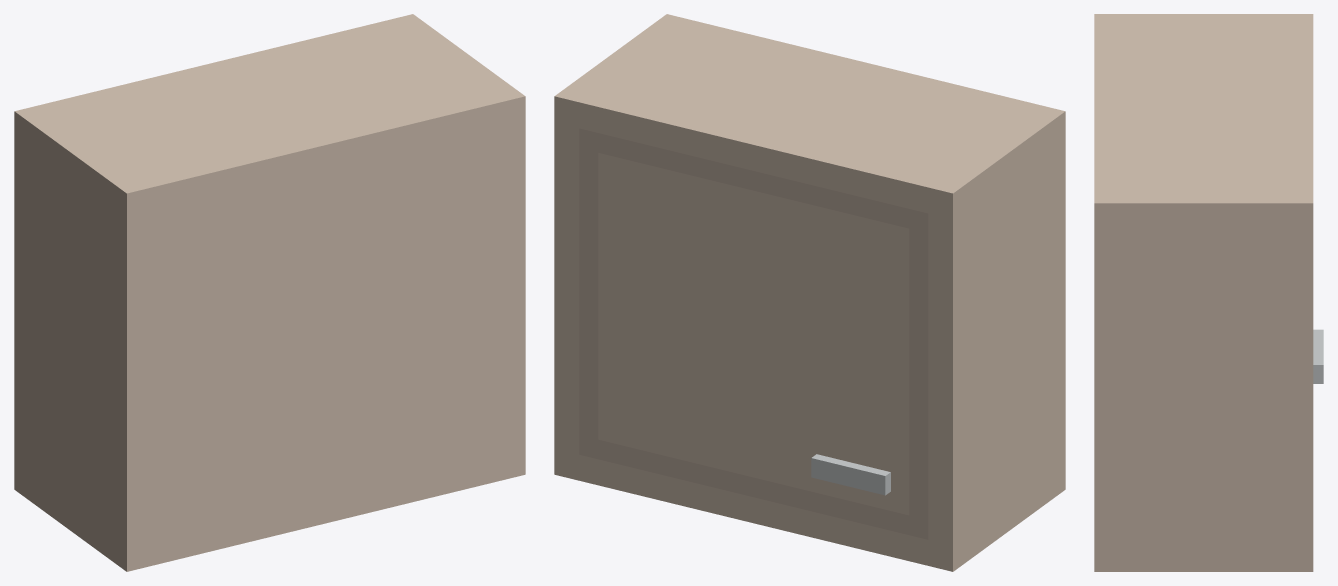
Rendered from furn_kitchenCabinetUpper.glb.
The picture shows the model from 3 angles, left to right: view 1: azimuth 30°, elevation 25°; view 2: azimuth 150°, elevation 25°; view 3: azimuth 270°, elevation 25°; orthographic projection. The views are drawn at different scales.
Size of the model in its own units: 0.86 by 0.78 by 0.44.
